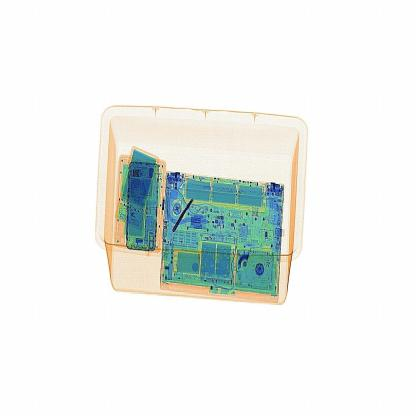knife: (170, 190, 209, 242)
